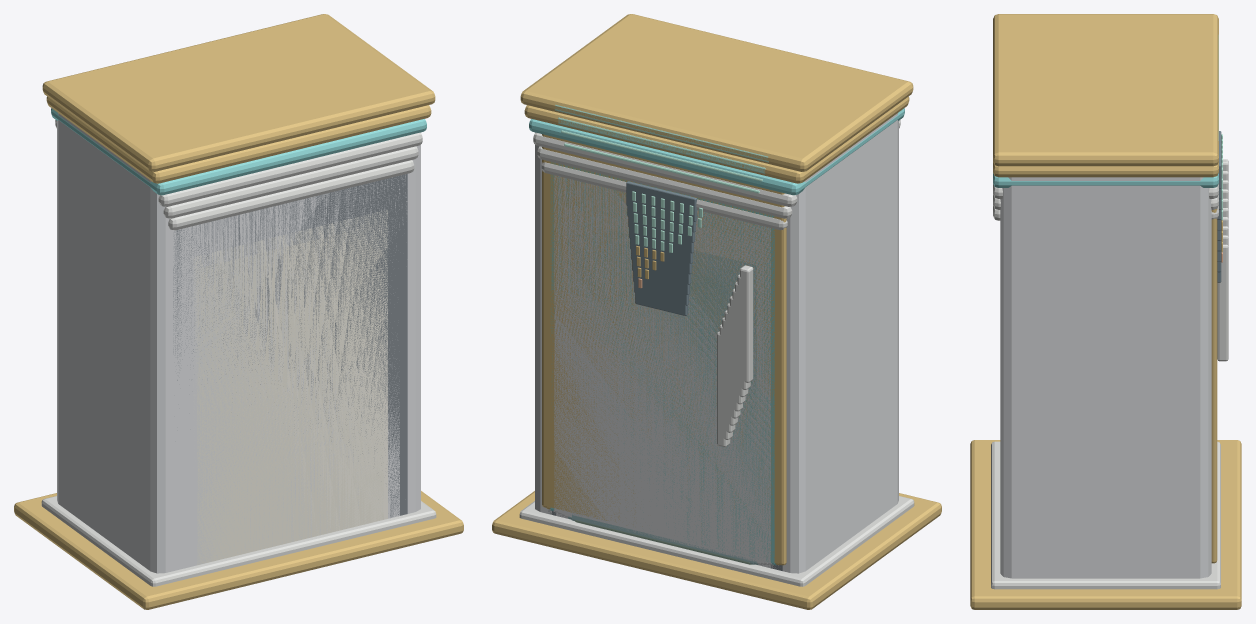
File: Gear14.fbx
3 renders of one model, left to right at view 1: azimuth 30°, elevation 25°; view 2: azimuth 150°, elevation 25°; view 3: azimuth 270°, elevation 25°, orthographic. The views are drawn at different scales.
Visible parts, largest first — view 1: Gear14_V10_Platinum, Gear14_V2_Ivory, Gear14_V10_Gold, Gear14_V3_Linen, Gear14_V6_Platinum, Gear14_V8_Graphite, Gear14_V9_Gold, Gear14_V7_Graphite, Gear14_V7_Chrome, Gear14_V8_Aqua, Gear14_V6_Chrome, Gear14_V5_Chrome (+3 smaller); view 2: Gear14_V10_Gold, Gear14_V7_Platinum, Gear14_V10_Platinum, Gear14_V8_Aqua, Gear14_V9_Gold, Gear14_V4_Platinum, Gear14_V10_Chrome, Gear14_V7_Chrome, Gear14_V3_Blue, Gear14_V6_Chrome, Gear14_V5_Platinum, Gear14_V5_Chrome (+18 smaller); view 3: Gear14_V10_Platinum, Gear14_V10_Gold, Gear14_V9_Gold, Gear14_V10_Chrome, Gear14_V8_Aqua, Gear14_V1_Chrome, Gear14_V7_Chrome, Gear14_V6_Chrome, Gear14_V8_Chrome, Gear14_V5_Chrome.
Part boxes in pixels (x1,y1,x2,y2): Gear14_V10_Platinum: (57,113,420,573); Gear14_V2_Ivory: (197,225,383,564); Gear14_V10_Gold: (14,14,463,609); Gear14_V3_Linen: (193,210,387,535); Gear14_V6_Platinum: (181,184,399,566); Gear14_V8_Graphite: (173,174,407,516); Gear14_V9_Gold: (46,96,457,606); Gear14_V7_Graphite: (177,174,403,516); Gear14_V7_Chrome: (55,120,422,583); Gear14_V8_Aqua: (51,108,426,195); Gear14_V6_Chrome: (163,146,418,579); Gear14_V5_Chrome: (168,160,414,230); Gear14_V10_Gold: (492,14,941,609); Gear14_V7_Platinum: (553,175,772,564); Gear14_V10_Platinum: (535,113,898,573); Gear14_V8_Aqua: (529,108,904,565); Gear14_V9_Gold: (498,96,933,601); Gear14_V4_Platinum: (564,207,761,564); Gear14_V10_Chrome: (519,265,914,586); Gear14_V7_Chrome: (533,120,900,578); Gear14_V3_Blue: (568,221,758,564); Gear14_V6_Chrome: (537,146,792,543); Gear14_V5_Platinum: (560,206,770,568); Gear14_V5_Chrome: (541,162,787,577); Gear14_V10_Platinum: (1000,177,1211,578); Gear14_V10_Gold: (970,14,1241,609); Gear14_V9_Gold: (970,162,1218,597); Gear14_V10_Chrome: (991,159,1228,589); Gear14_V8_Aqua: (993,173,1218,187); Gear14_V1_Chrome: (1217,244,1228,361); Gear14_V7_Chrome: (991,183,1228,576); Gear14_V6_Chrome: (991,194,1228,572); Gear14_V8_Chrome: (991,180,1228,577); Gear14_V5_Chrome: (991,205,1228,570).
Bounding box in the file's own units: 100 × 131 × 72.
